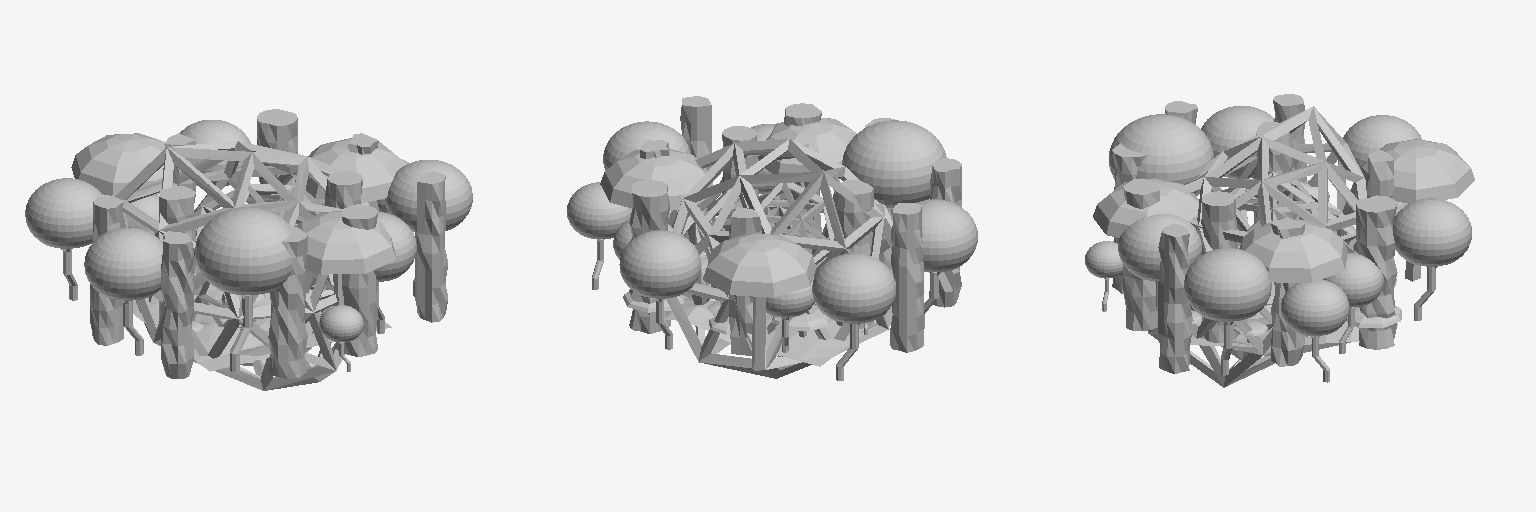
File: environments_hologram.obj
The picture shows the model from 3 angles: view 1: azimuth 30°, elevation 25°; view 2: azimuth 150°, elevation 25°; view 3: azimuth 270°, elevation 25°; orthographic projection.
Visible parts, largest first — view 1: Globule_Trees_Sphere.013, Rock_Pillars_Cylinder.012, Lattice_Icosphere.005, Mushrooms_Cube.033, Desert_Plane.001; view 2: Globule_Trees_Sphere.013, Lattice_Icosphere.005, Rock_Pillars_Cylinder.012, Mushrooms_Cube.033, Desert_Plane.001; view 3: Globule_Trees_Sphere.013, Rock_Pillars_Cylinder.012, Lattice_Icosphere.005, Mushrooms_Cube.033, Desert_Plane.001.
Part boxes in pixels (x1,y1,x2,y2): Globule_Trees_Sphere.013: (25, 120, 472, 371); Rock_Pillars_Cylinder.012: (90, 109, 447, 378); Lattice_Icosphere.005: (115, 141, 368, 390); Mushrooms_Cube.033: (71, 133, 406, 350); Desert_Plane.001: (133, 269, 391, 371); Globule_Trees_Sphere.013: (567, 120, 977, 380); Lattice_Icosphere.005: (666, 139, 892, 378); Rock_Pillars_Cylinder.012: (629, 96, 961, 355); Mushrooms_Cube.033: (600, 118, 856, 370); Desert_Plane.001: (664, 205, 924, 366); Globule_Trees_Sphere.013: (1085, 106, 1471, 382); Rock_Pillars_Cylinder.012: (1112, 94, 1397, 373); Lattice_Icosphere.005: (1148, 106, 1366, 387); Mushrooms_Cube.033: (1093, 139, 1474, 342); Desert_Plane.001: (1190, 305, 1359, 346).
Size of the model in its own units: 25.37 by 14.98 by 23.17.